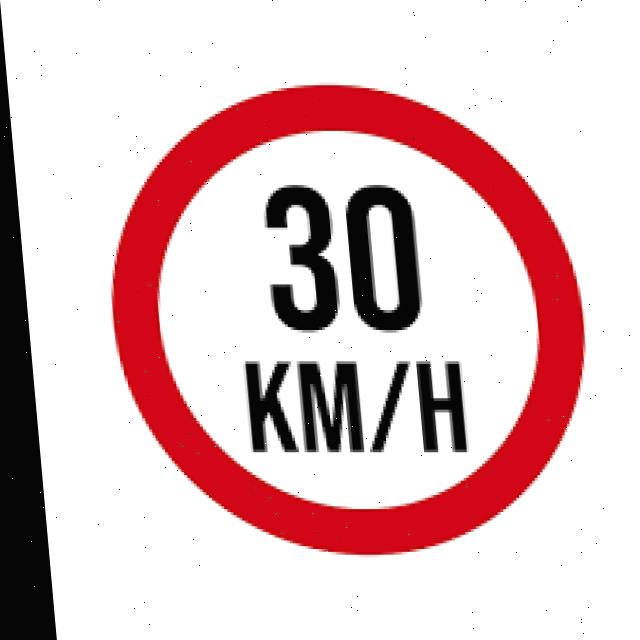Speed limit 30: (86, 81, 597, 559)
